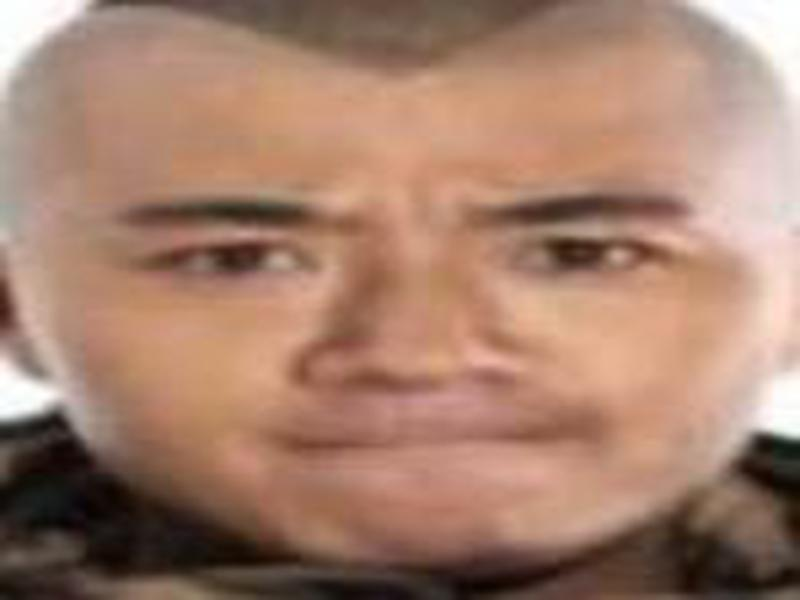without_mask: (6, 60, 800, 564)
